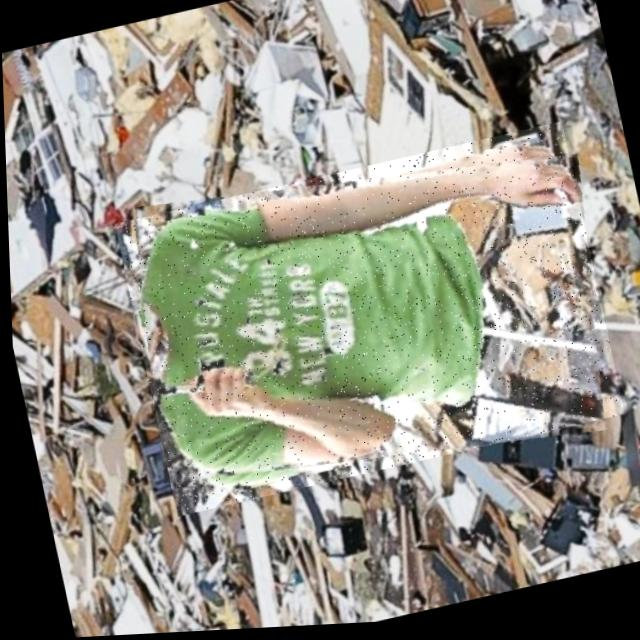Person in Rubble: (111, 123, 625, 519)
